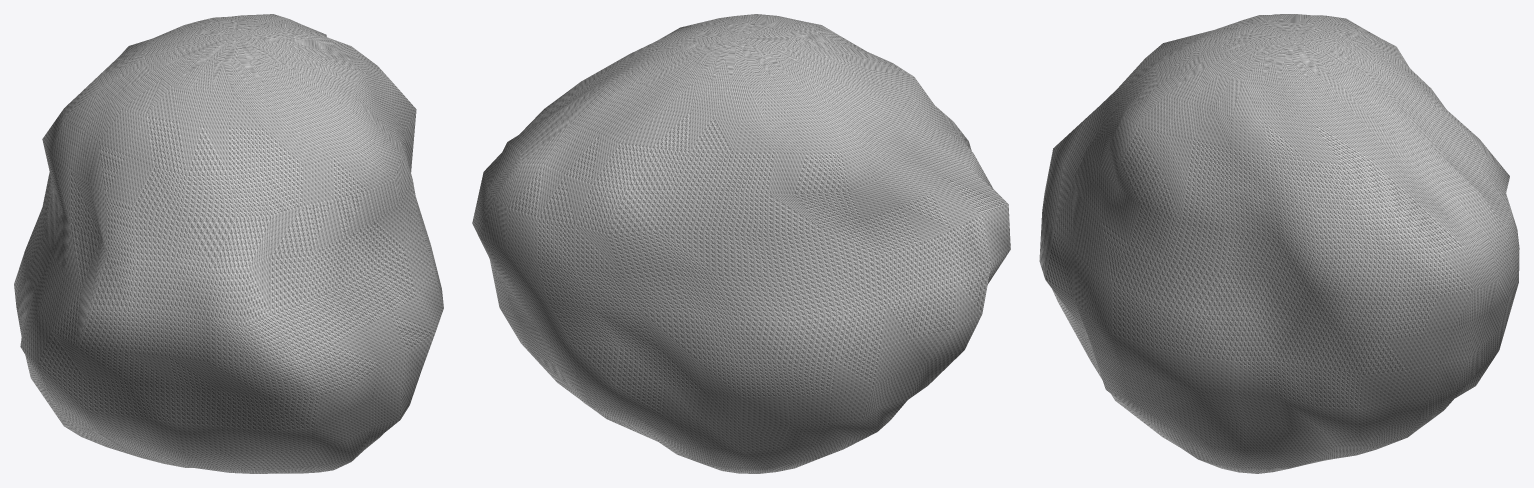
File: ooiwa.FBX
The picture shows the model from 3 angles, left to right: view 1: azimuth 30°, elevation 25°; view 2: azimuth 150°, elevation 25°; view 3: azimuth 270°, elevation 25°; orthographic projection. The views are drawn at different scales.
Visible parts, largest first — view 1: Sphere001; view 2: Sphere001; view 3: Sphere001.
Part boxes in pixels (<box>): Sphere001: <box>14,14,443,473</box>; Sphere001: <box>472,14,1010,473</box>; Sphere001: <box>1039,14,1519,473</box>.
Size of the model in its own units: 31.07 by 29.38 by 31.07.
